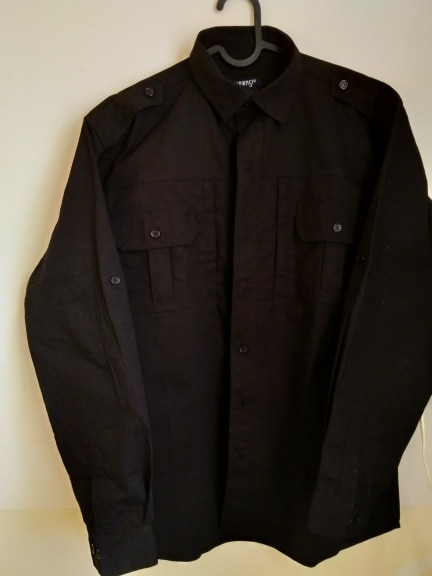shirts: (31, 25, 432, 553)
